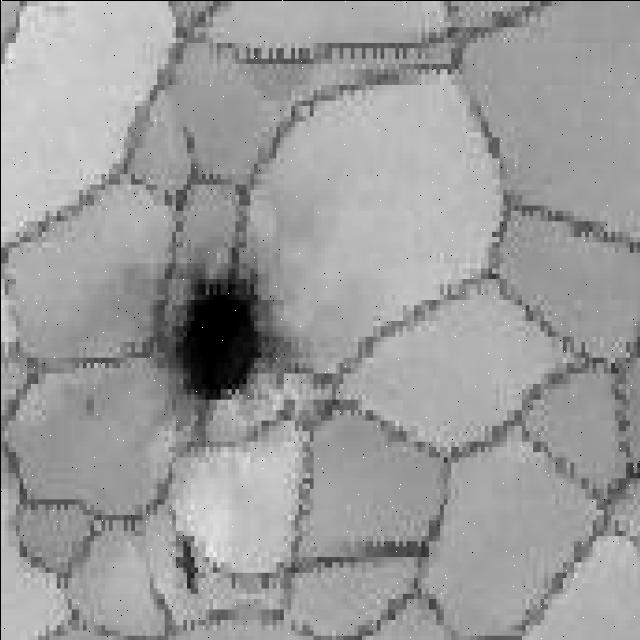good_void: (154, 254, 308, 407), (167, 534, 204, 592), (179, 122, 194, 151)
